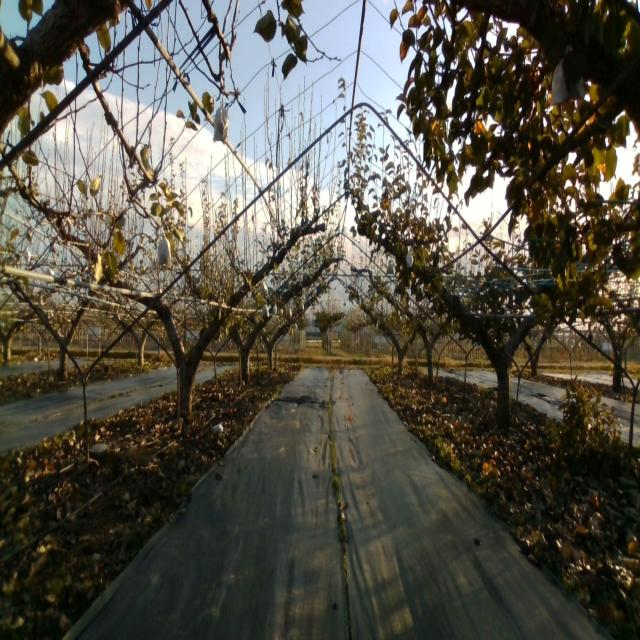pearbags: (212, 96, 230, 145), (155, 230, 173, 268)
